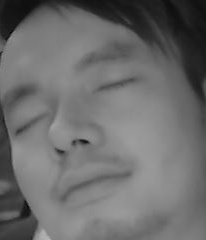blink: (13, 111, 55, 135), (96, 75, 137, 98)
mouth: (54, 161, 138, 206)
